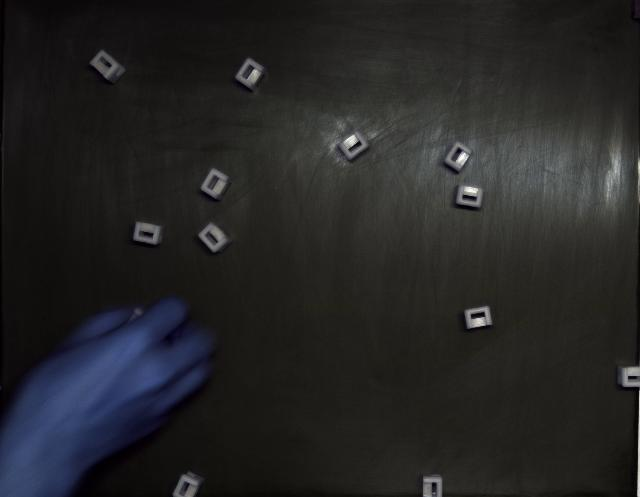fourth_side: (90, 50, 125, 84), (235, 58, 266, 91), (199, 222, 232, 253), (200, 169, 232, 200), (339, 131, 369, 160), (444, 141, 472, 172), (132, 221, 165, 245), (464, 306, 492, 330), (456, 185, 484, 208)
